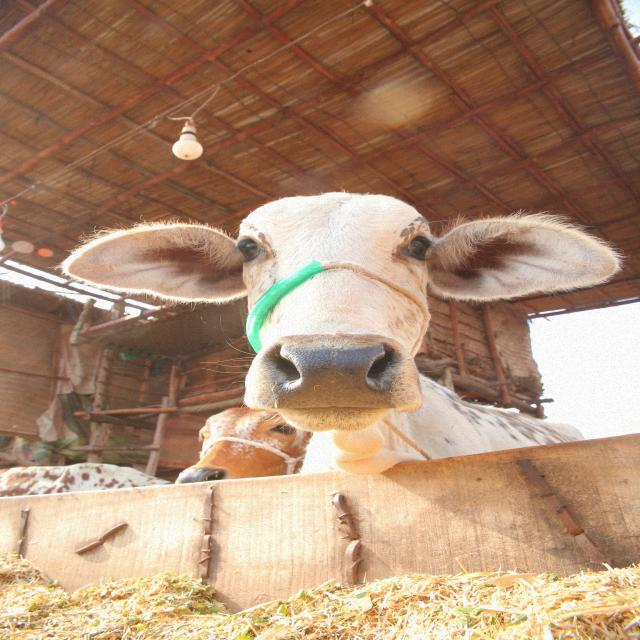muzzles: (248, 334, 412, 413)
